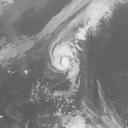cyclone: (51, 44, 80, 72)
